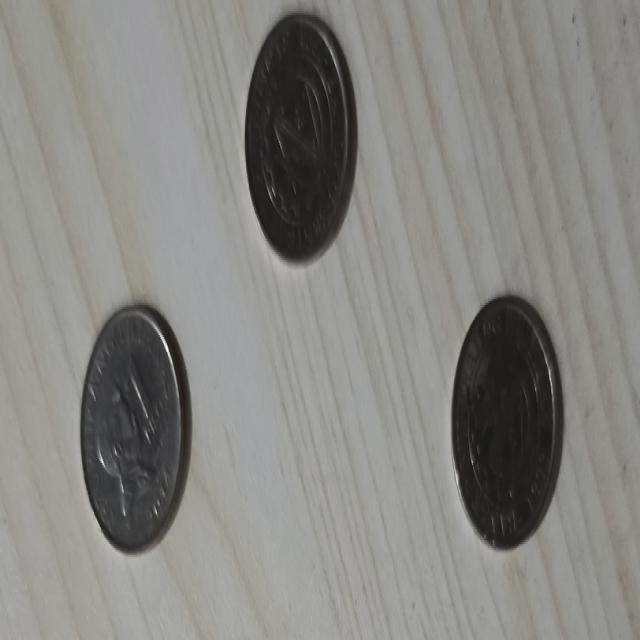1_peso: (452, 296, 562, 548), (244, 13, 356, 260), (80, 305, 187, 552)
